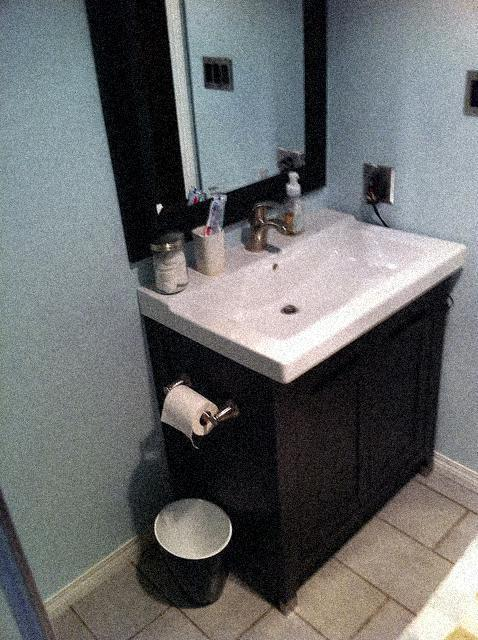Bote de Basura: (153, 499, 241, 604)
Lavamanos: (171, 204, 446, 361)
